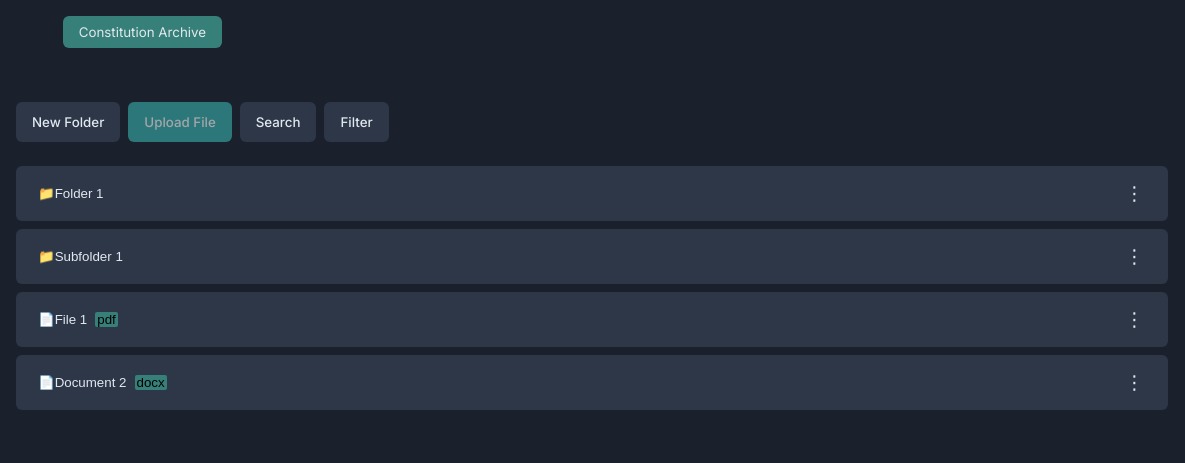
Test case: FolderBrowser Component › renders filter input when filter is active
Click the button "Filter": (357,122) 324,102 -> 389,142
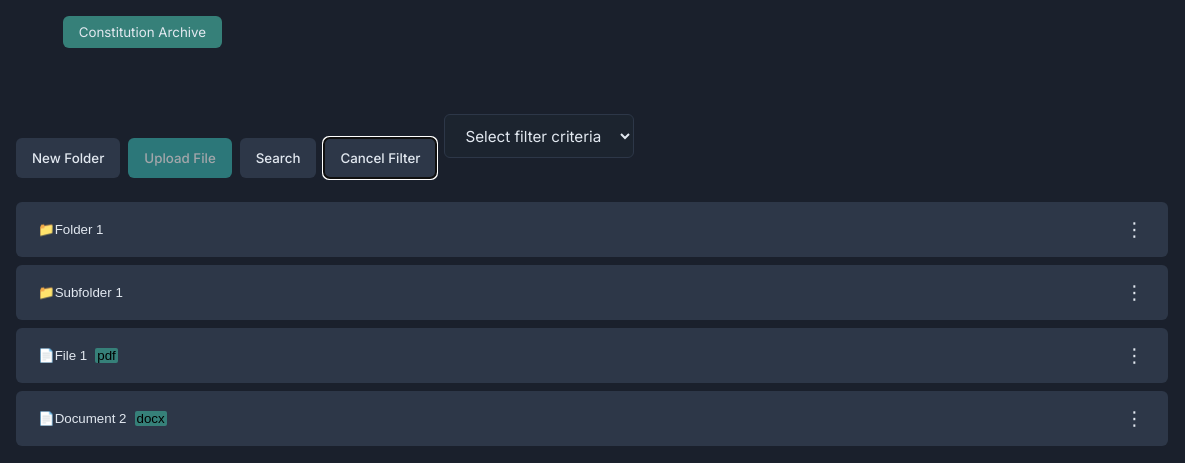
Expected: the dropdown named "Select filter criteria" is shown, 444,114 -> 634,158
